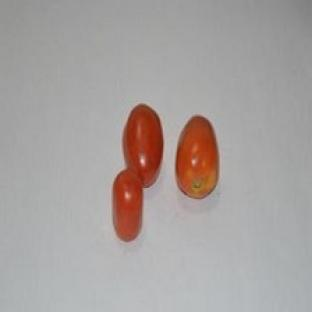Tomato: (176, 116, 218, 199), (123, 105, 162, 188), (113, 169, 143, 240)
